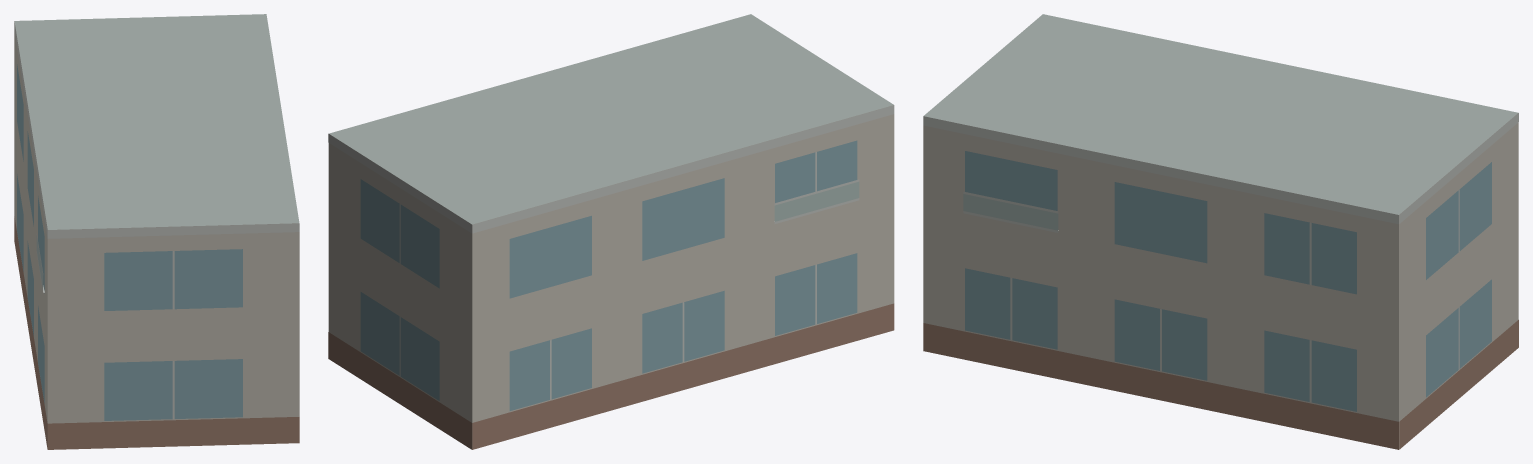
Rendered from survey-upis-33020241.glb.
The picture shows the model from 3 angles, left to right: view 1: azimuth 30°, elevation 25°; view 2: azimuth 150°, elevation 25°; view 3: azimuth 270°, elevation 25°; orthographic projection. The views are drawn at different scales.
Visible parts, largest first — view 1: survey-upis-33020241.tmp; view 2: survey-upis-33020241.tmp; view 3: survey-upis-33020241.tmp.
Part boxes in pixels (x1=…): survey-upis-33020241.tmp: x1=14, y1=14, x2=299, y2=449; survey-upis-33020241.tmp: x1=328, y1=14, x2=894, y2=449; survey-upis-33020241.tmp: x1=923, y1=14, x2=1518, y2=449.
Bounding box in the file's own units: 11.2 × 6.1 × 14.02.
